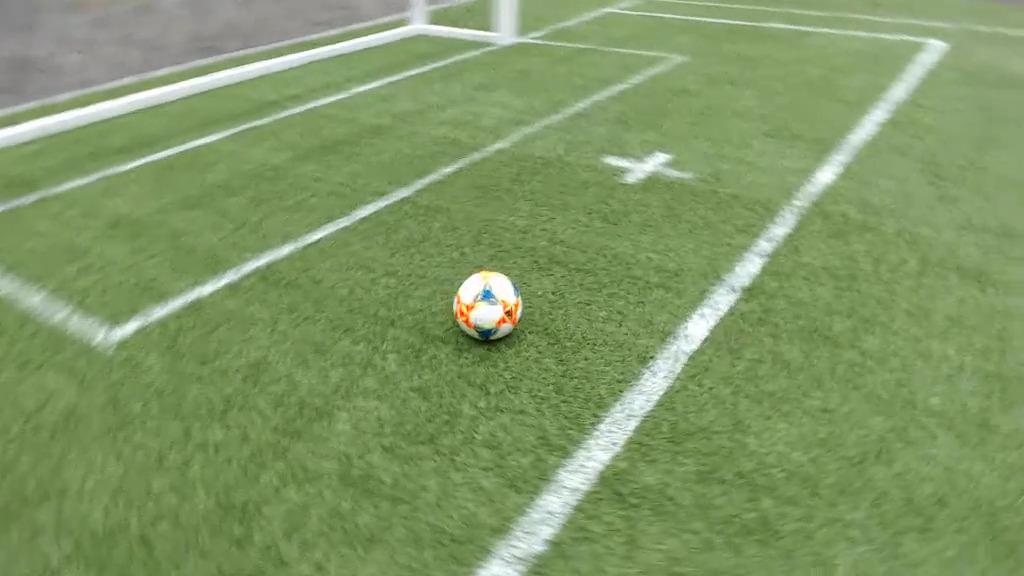ball: (454, 269, 521, 338)
